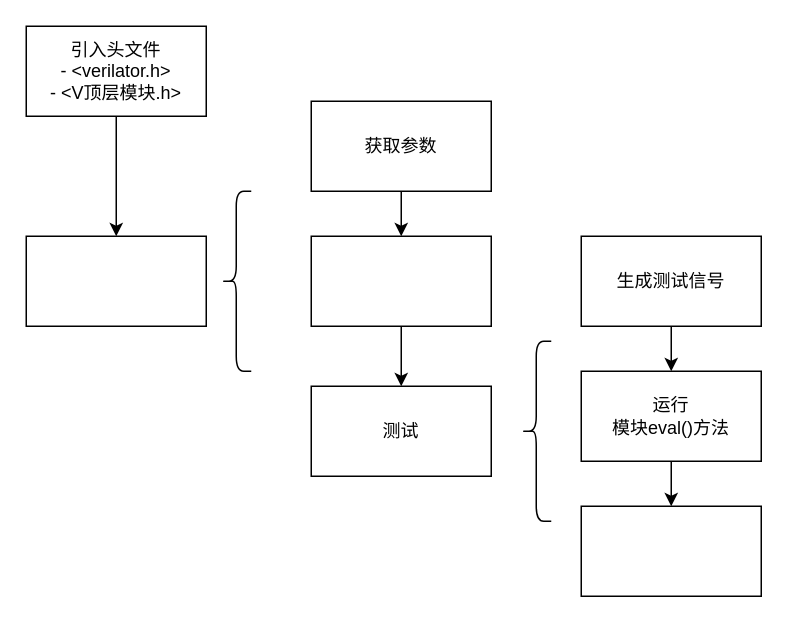
The diagram is 788 pixels wide and 623 high, and some of its shapes have lost their labels. Each missing label, with the centre of its shape:
"主函数" goes at (115,280).
"查看结果" goes at (670,550).
"生成顶层模块实例" goes at (400,280).
